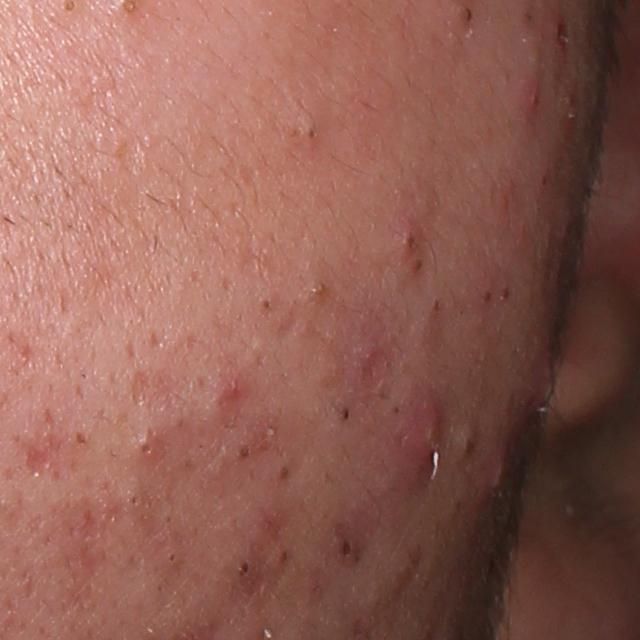atrophic_scar: (124, 368, 181, 414), (18, 432, 61, 481)
comedo: (454, 431, 476, 457), (309, 279, 329, 306), (458, 1, 475, 29), (402, 229, 419, 254), (336, 534, 352, 559), (163, 549, 181, 571), (257, 294, 275, 316), (336, 406, 353, 426), (125, 491, 142, 511), (137, 440, 153, 461), (278, 546, 295, 565), (479, 285, 493, 308), (303, 124, 318, 145), (237, 561, 252, 582), (275, 466, 292, 483), (500, 281, 511, 303), (73, 433, 86, 448), (413, 258, 425, 274), (236, 445, 248, 461)
papule: (400, 404, 443, 479), (516, 76, 546, 117), (486, 449, 509, 496), (214, 373, 245, 406)
